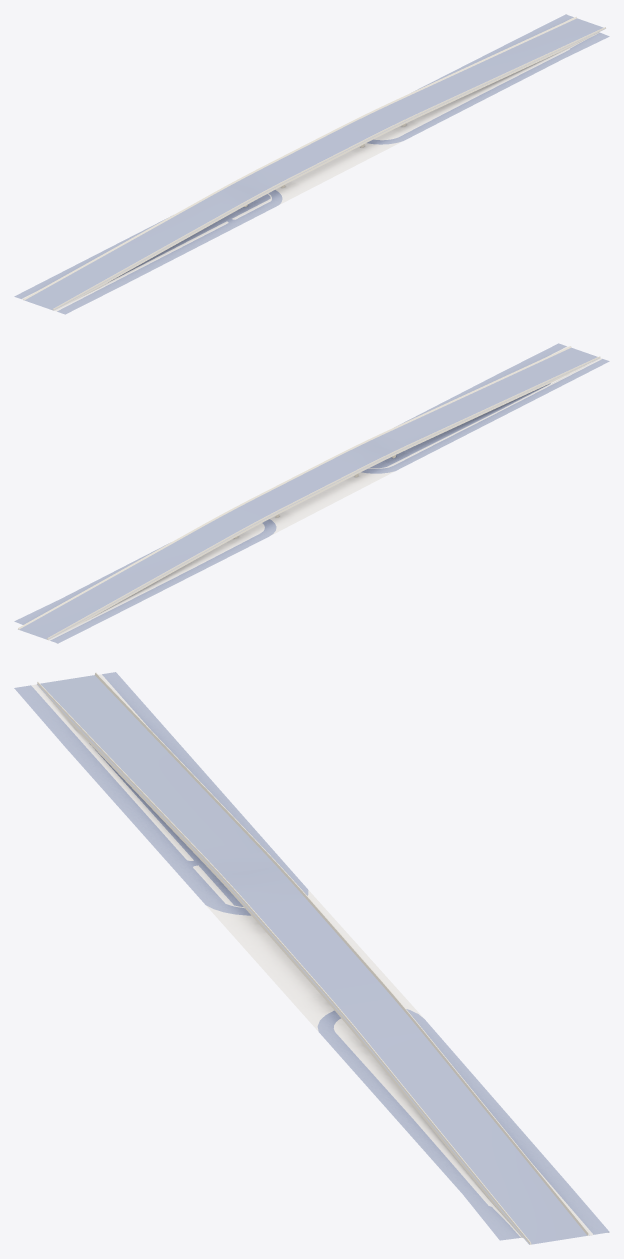
Rendered from Riskulov-Sharipov.glb.
3 renders of one model, top to bottom at view 1: azimuth 30°, elevation 25°; view 2: azimuth 210°, elevation 25°; view 3: azimuth 270°, elevation 25°, orthographic. The views are drawn at different scales.
Parts seen in each view (by area): view 1: SketchUp.012, SketchUp.003, SketchUp.011; view 2: SketchUp.012, SketchUp.003, SketchUp.011; view 3: SketchUp.012, SketchUp.011, SketchUp.003.
Part boxes in pixels (x1=…): SketchUp.012: x1=14, y1=14, x2=609, y2=314; SketchUp.003: x1=23, y1=16, x2=605, y2=310; SketchUp.011: x1=21, y1=17, x2=599, y2=311; SketchUp.012: x1=14, y1=343, x2=609, y2=643; SketchUp.003: x1=18, y1=346, x2=600, y2=639; SketchUp.011: x1=48, y1=346, x2=602, y2=640; SketchUp.012: x1=14, y1=672, x2=609, y2=1244; SketchUp.011: x1=31, y1=674, x2=593, y2=1237; SketchUp.003: x1=37, y1=672, x2=588, y2=1244.
Size of the model in its own units: 512 by 8.37 by 225.
Materials: 4 (3 with a texture image).
